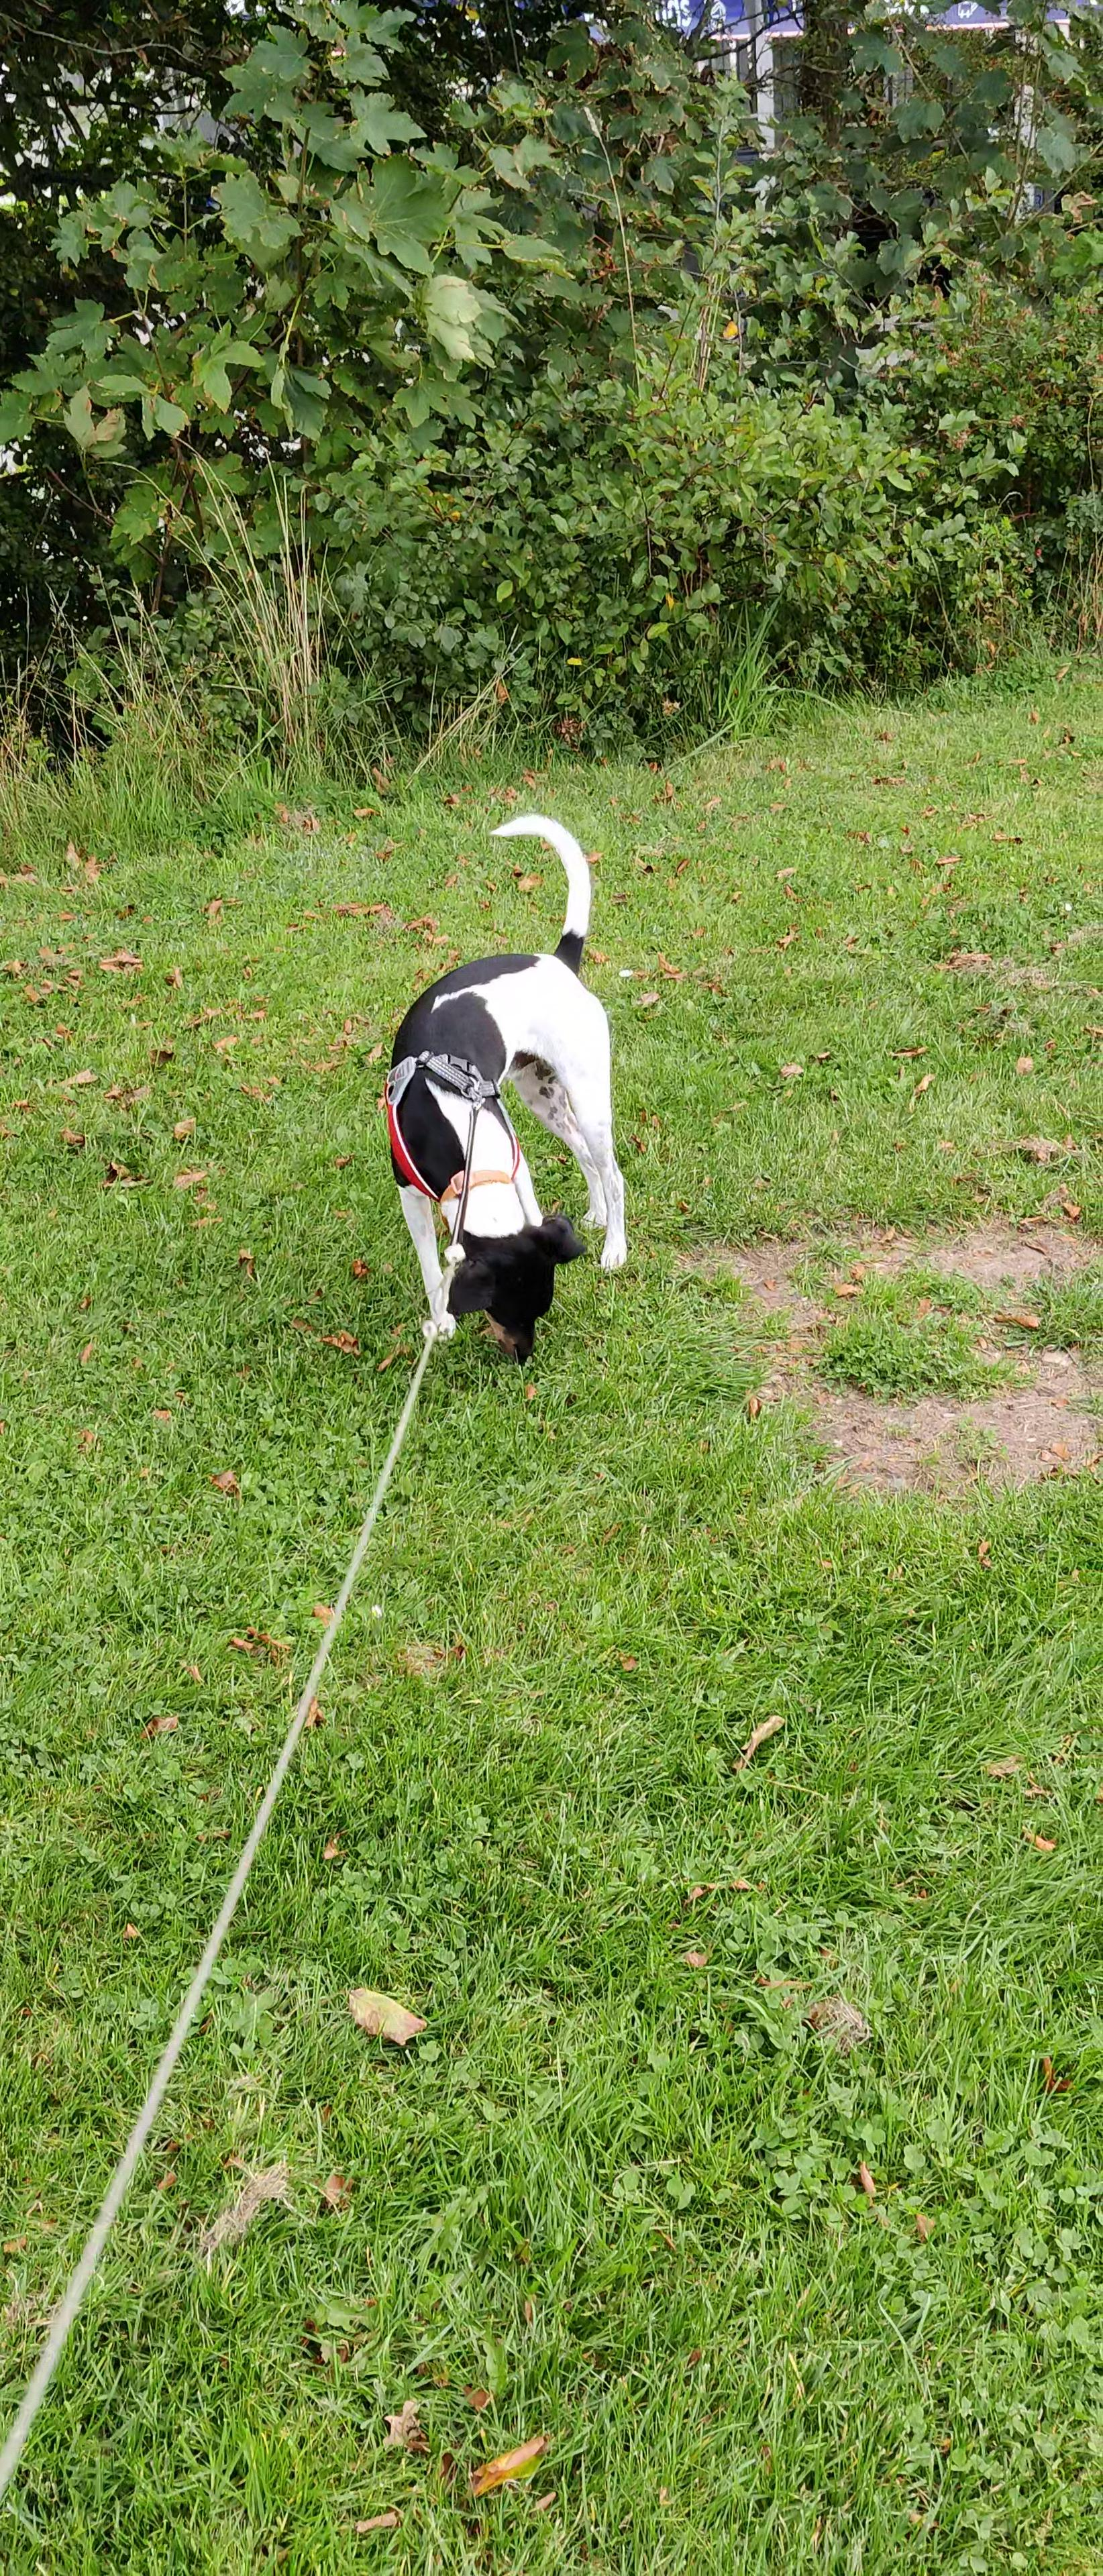Dog: (345, 779, 681, 1395)
